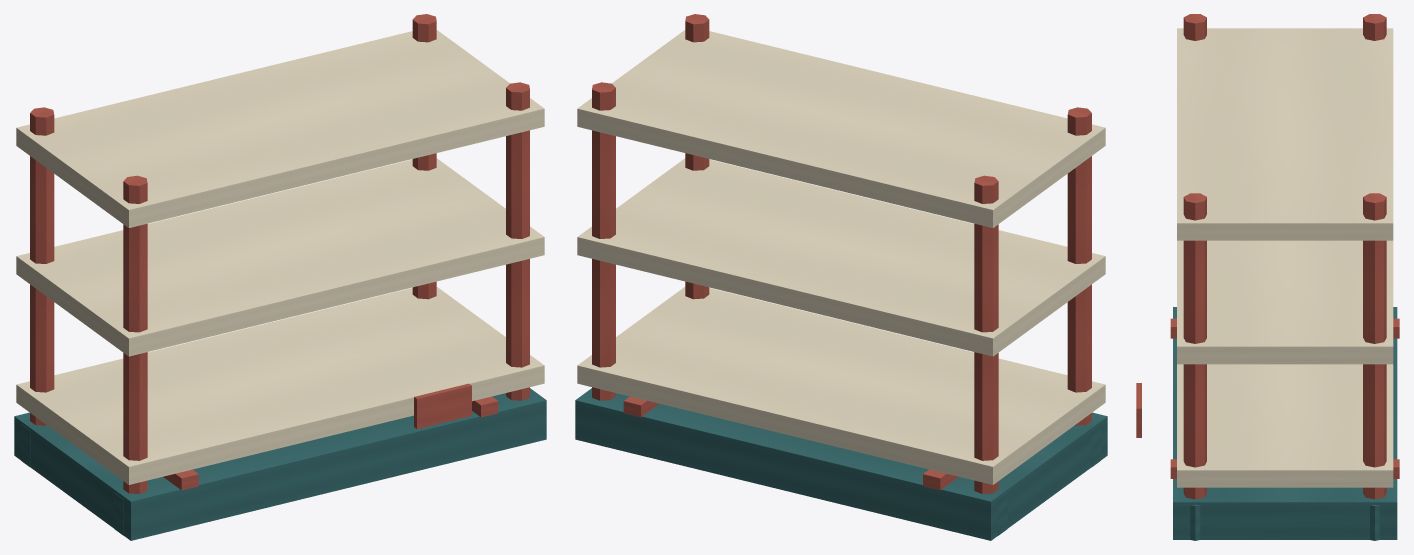
File: atlas100-s033-a06.lod1.glb
3 renders of one model, left to right at view 1: azimuth 30°, elevation 25°; view 2: azimuth 150°, elevation 25°; view 3: azimuth 270°, elevation 25°, orthographic. The views are drawn at different scales.
Parts seen in each view (by area): view 1: atlas100-s033-a06:part-013, atlas100-s033-a06:part-012, atlas100-s033-a06:part-011, atlas100-s033-a06:part-000, atlas100-s033-a06:part-005, atlas100-s033-a06:part-009, atlas100-s033-a06:part-003, atlas100-s033-a06:part-014, atlas100-s033-a06:part-007; view 2: atlas100-s033-a06:part-013, atlas100-s033-a06:part-012, atlas100-s033-a06:part-011, atlas100-s033-a06:part-000, atlas100-s033-a06:part-003, atlas100-s033-a06:part-007, atlas100-s033-a06:part-005, atlas100-s033-a06:part-009; view 3: atlas100-s033-a06:part-013, atlas100-s033-a06:part-012, atlas100-s033-a06:part-011, atlas100-s033-a06:part-000, atlas100-s033-a06:part-007, atlas100-s033-a06:part-009, atlas100-s033-a06:part-003, atlas100-s033-a06:part-005, atlas100-s033-a06:part-010, atlas100-s033-a06:part-008, atlas100-s033-a06:part-014.
Part boxes in pixels (left/top/right/bottom): atlas100-s033-a06:part-013: left=16, top=30, right=544, bottom=227; atlas100-s033-a06:part-012: left=16, top=158, right=544, bottom=356; atlas100-s033-a06:part-011: left=16, top=287, right=544, bottom=484; atlas100-s033-a06:part-000: left=14, top=388, right=546, bottom=540; atlas100-s033-a06:part-005: left=123, top=175, right=147, bottom=493; atlas100-s033-a06:part-009: left=506, top=82, right=529, bottom=400; atlas100-s033-a06:part-003: left=30, top=107, right=54, bottom=425; atlas100-s033-a06:part-014: left=414, top=383, right=471, bottom=428; atlas100-s033-a06:part-007: left=412, top=14, right=436, bottom=299; atlas100-s033-a06:part-013: left=577, top=30, right=1105, bottom=227; atlas100-s033-a06:part-012: left=577, top=158, right=1105, bottom=356; atlas100-s033-a06:part-011: left=577, top=287, right=1105, bottom=484; atlas100-s033-a06:part-000: left=575, top=388, right=1107, bottom=540; atlas100-s033-a06:part-003: left=974, top=175, right=998, bottom=493; atlas100-s033-a06:part-007: left=592, top=82, right=615, bottom=400; atlas100-s033-a06:part-005: left=1067, top=107, right=1091, bottom=425; atlas100-s033-a06:part-009: left=685, top=14, right=709, bottom=299; atlas100-s033-a06:part-013: left=1177, top=28, right=1393, bottom=240; atlas100-s033-a06:part-012: left=1177, top=240, right=1393, bottom=364; atlas100-s033-a06:part-011: left=1177, top=364, right=1393, bottom=487; atlas100-s033-a06:part-000: left=1173, top=307, right=1397, bottom=539; atlas100-s033-a06:part-007: left=1363, top=193, right=1386, bottom=499; atlas100-s033-a06:part-009: left=1183, top=193, right=1206, bottom=499; atlas100-s033-a06:part-003: left=1363, top=14, right=1386, bottom=40; atlas100-s033-a06:part-005: left=1183, top=14, right=1206, bottom=40; atlas100-s033-a06:part-010: left=1190, top=505, right=1200, bottom=540; atlas100-s033-a06:part-008: left=1370, top=505, right=1379, bottom=540; atlas100-s033-a06:part-014: left=1136, top=383, right=1141, bottom=437.
Size of the model in its own units: 2.9 by 2.3 by 1.64.
3 materials, 3 textured.
